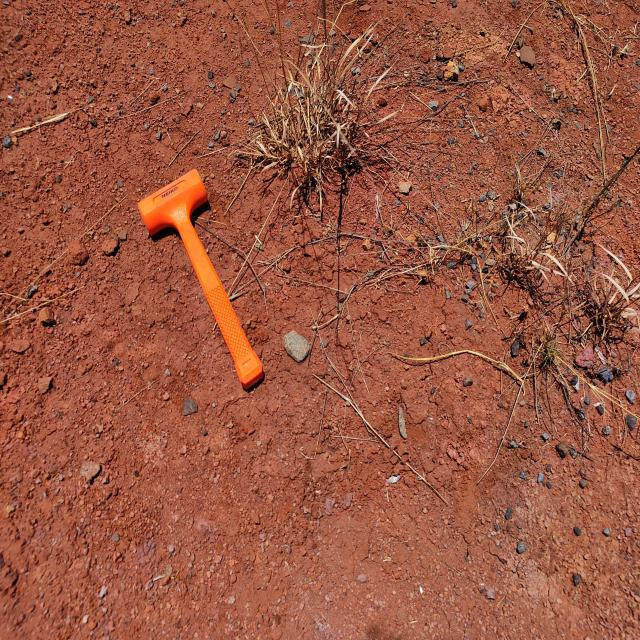Orange_hammer: (136, 168, 264, 391)
